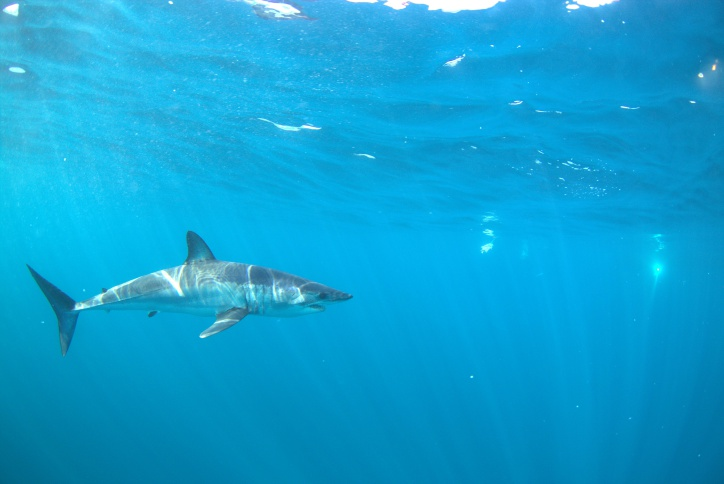Mako: (22, 221, 365, 363)
